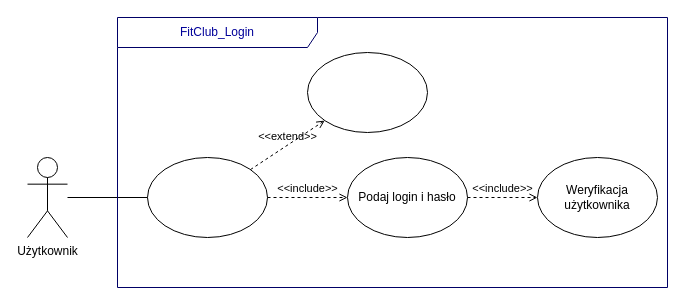
Some shapes in this 685 by 305 pixel diagram are drawn without their labels. Each missing label, with the box of its shape:
Zaloguj się: (146, 156, 268, 238)
Załóż konto: (306, 52, 428, 132)
